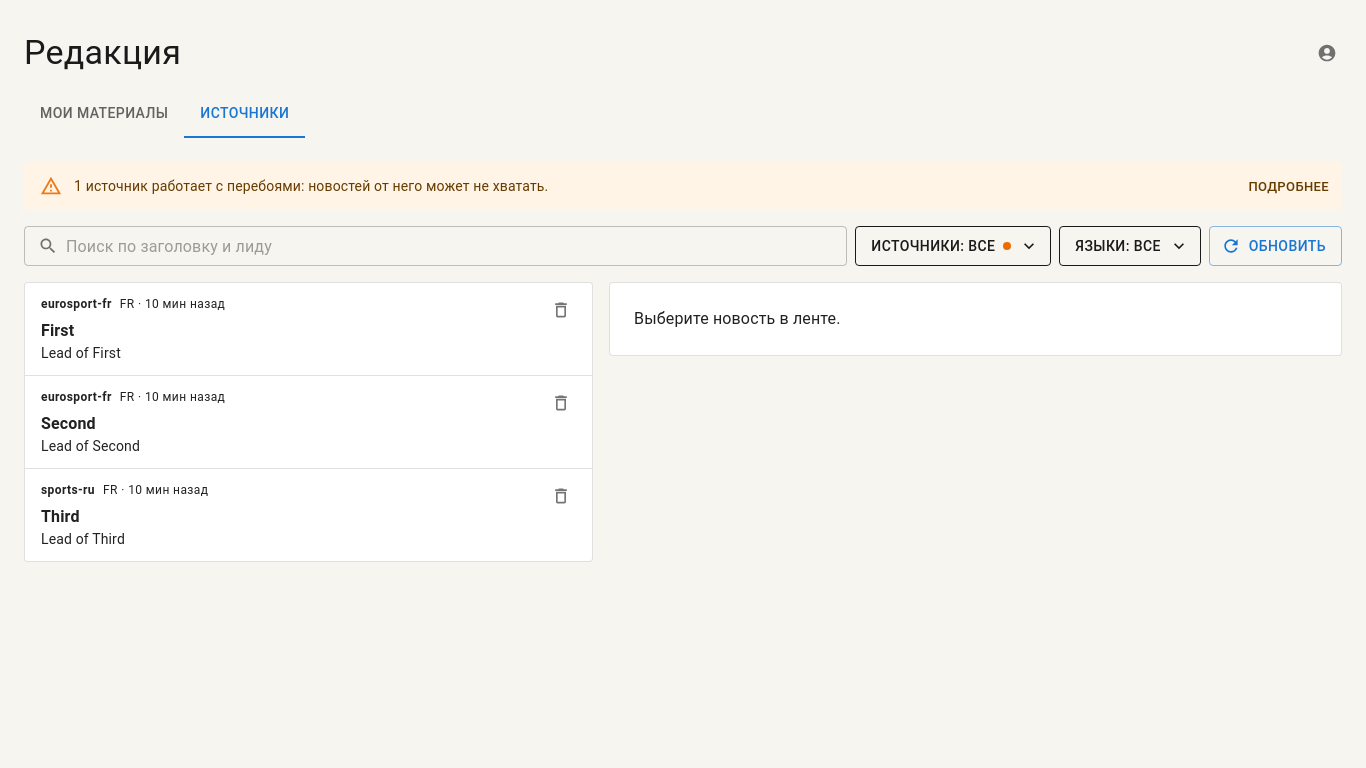
it: SourcesPage › says which sources are in trouble
Check: the text "1 источник работает с перебоями" is shown, box [74,178,548,194]
Click the button "Подробнее". click: (1289, 187)
box: [1243,172,1334,203]
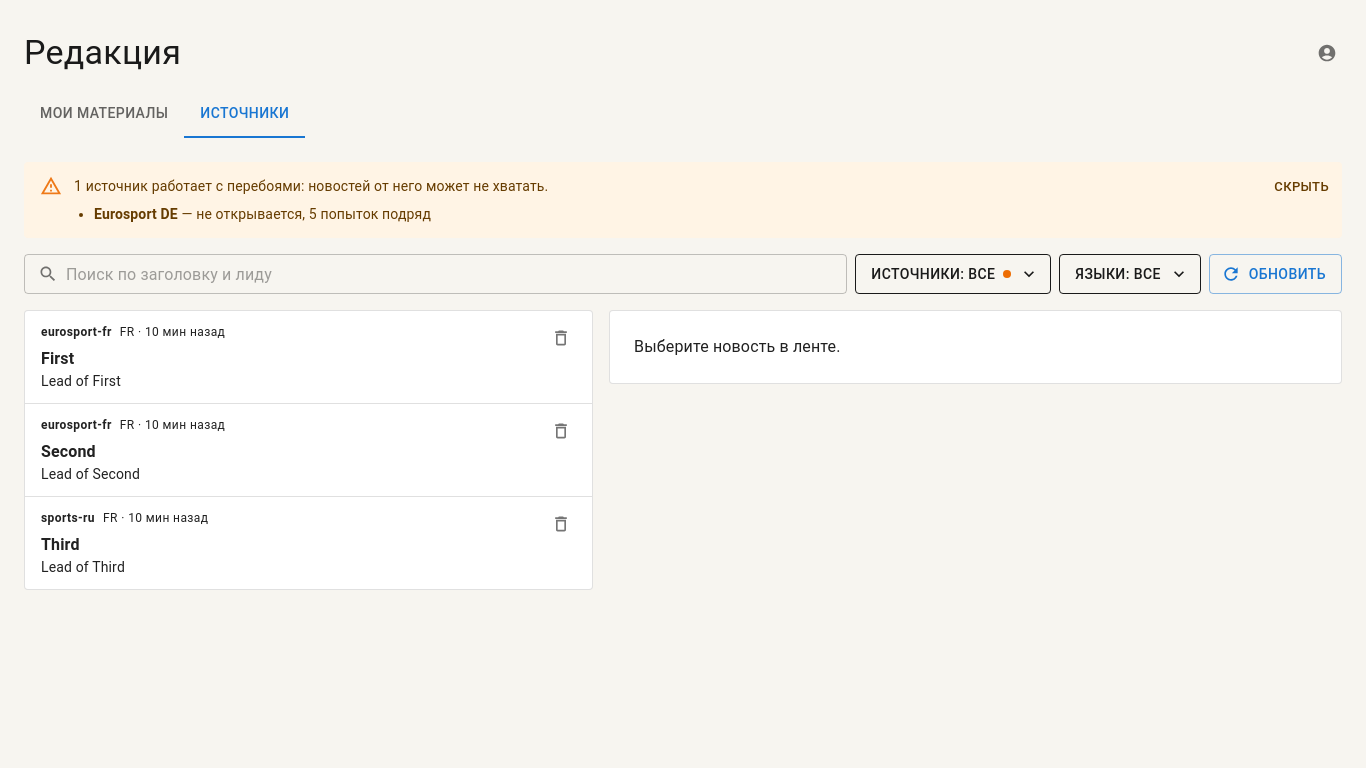
Check: the list item "Eurosport DE — не открывается, 5 попыток подряд" is shown, box [94,206,431,222]
